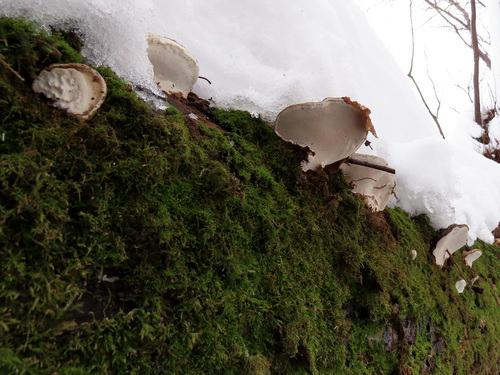Ganoderma - Fruit Body: (274, 95, 396, 212), (34, 60, 107, 123), (141, 34, 198, 100), (432, 223, 481, 281)
